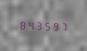eight: (17, 19, 24, 30)
five: (42, 19, 49, 31)
four: (25, 19, 32, 30)
nine: (50, 20, 57, 31)
seven: (58, 20, 65, 31)
three: (34, 19, 41, 30)
